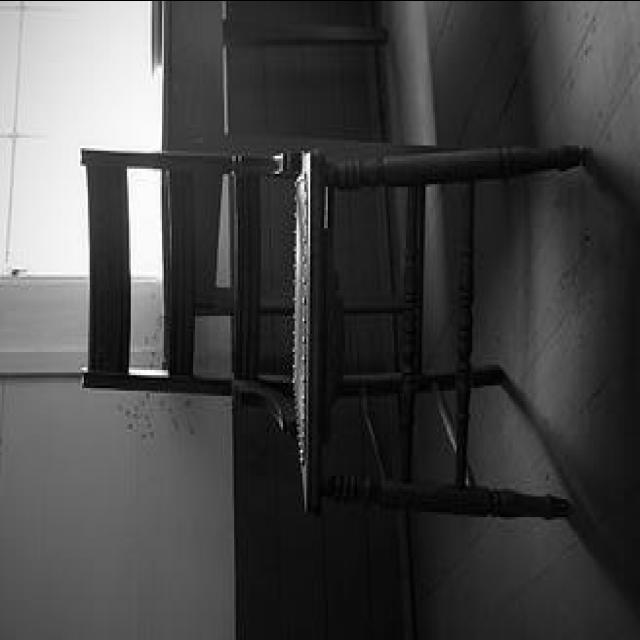chair: (76, 123, 604, 525)
